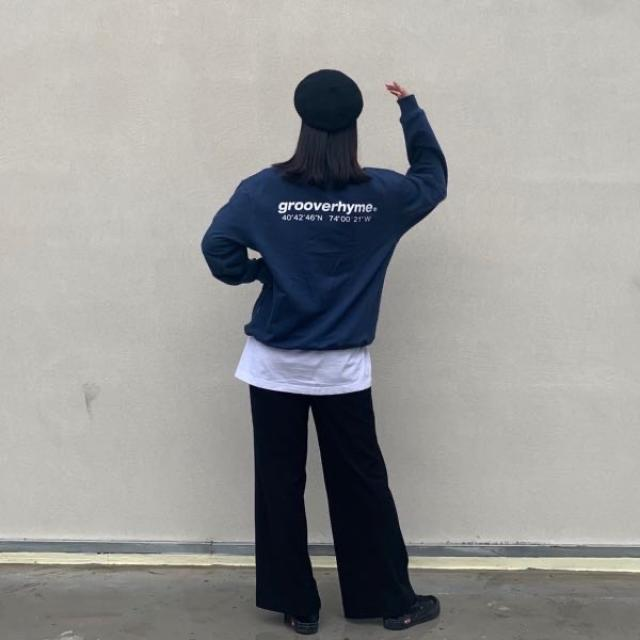mtm: (203, 92, 452, 357)
slacks: (247, 380, 414, 618)
